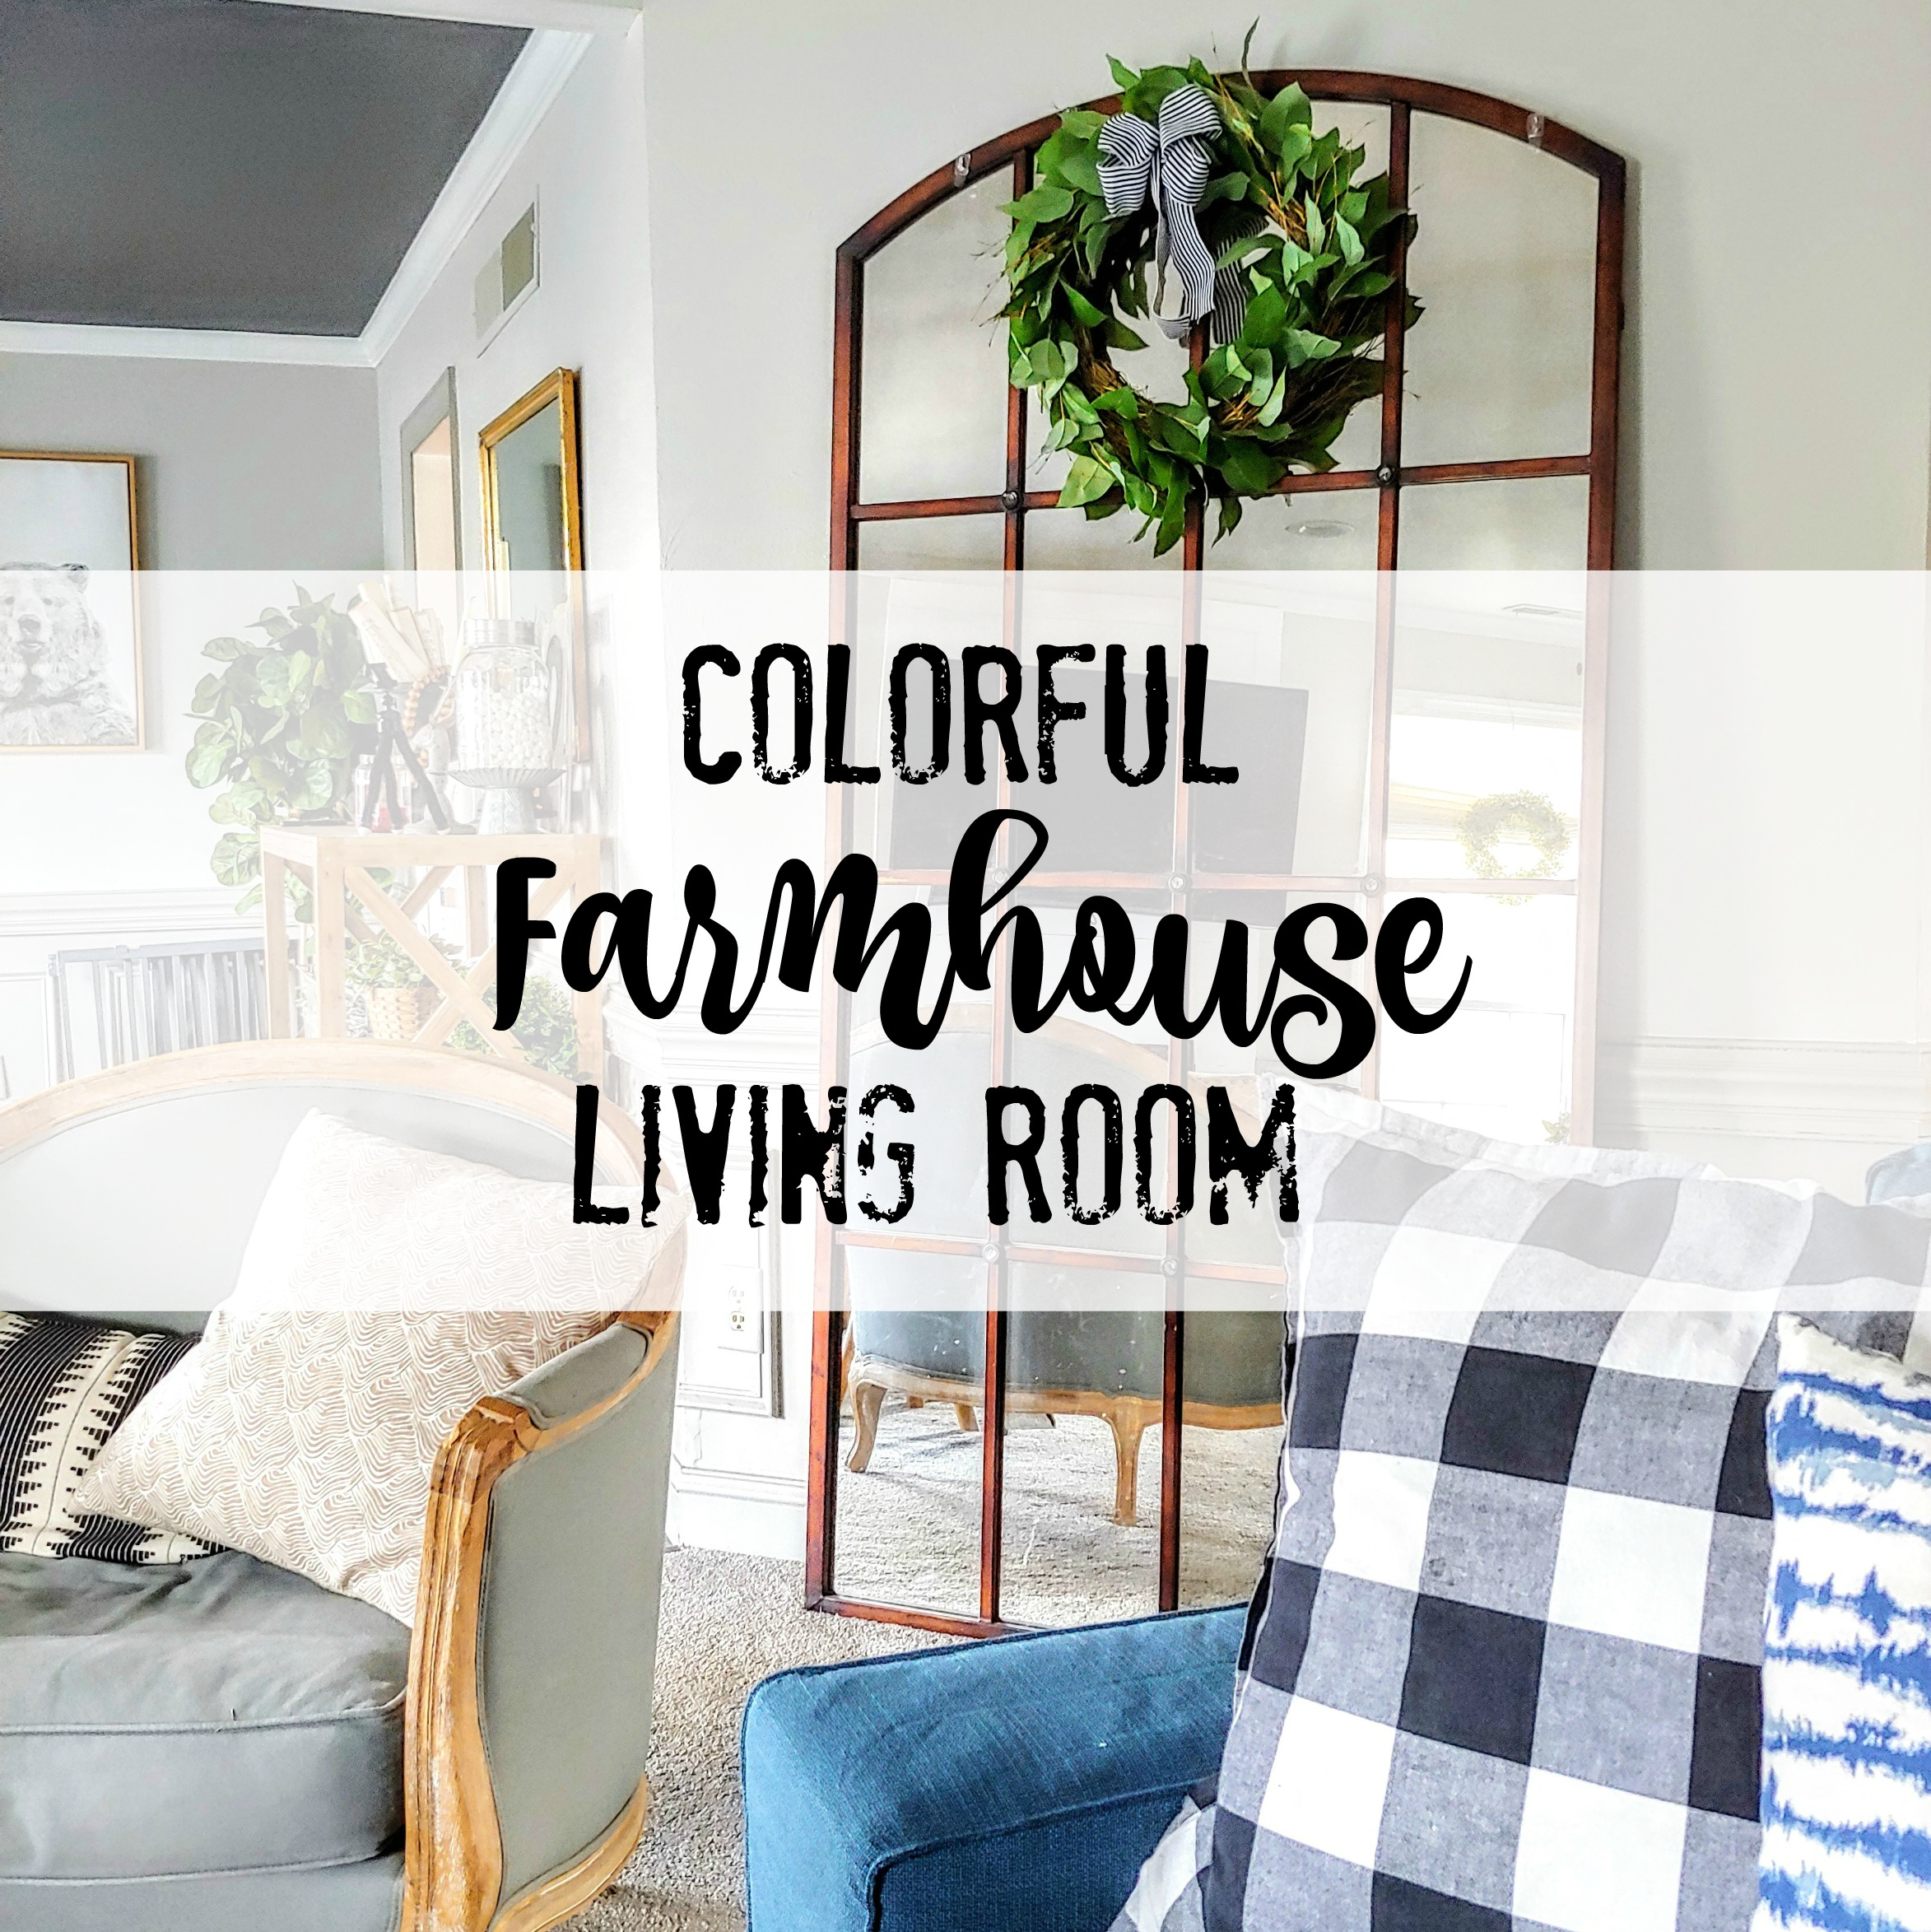biru: (739, 1660, 1333, 1927)
